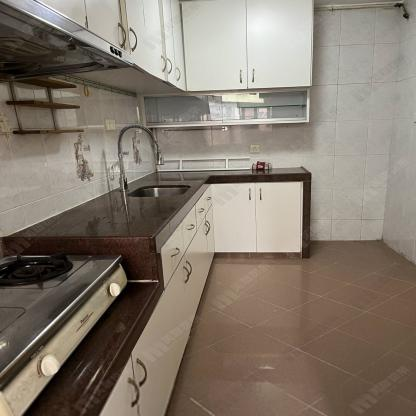Cupboard: (101, 183, 307, 414), (185, 0, 311, 93)
Faucet: (111, 121, 164, 188)
Sink: (125, 185, 194, 198)
Stove: (0, 255, 128, 415)
